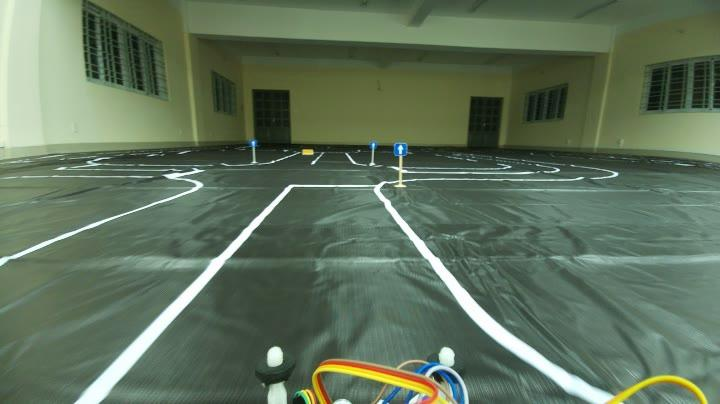onewayroad: (392, 136, 408, 158), (248, 136, 261, 152), (369, 138, 378, 150)
roadblock: (300, 145, 314, 157)
